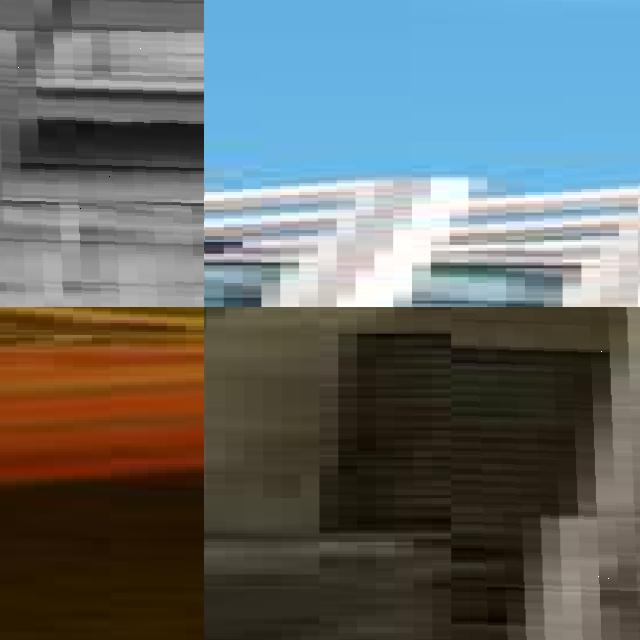street light: (451, 307, 640, 640), (0, 0, 204, 307)
